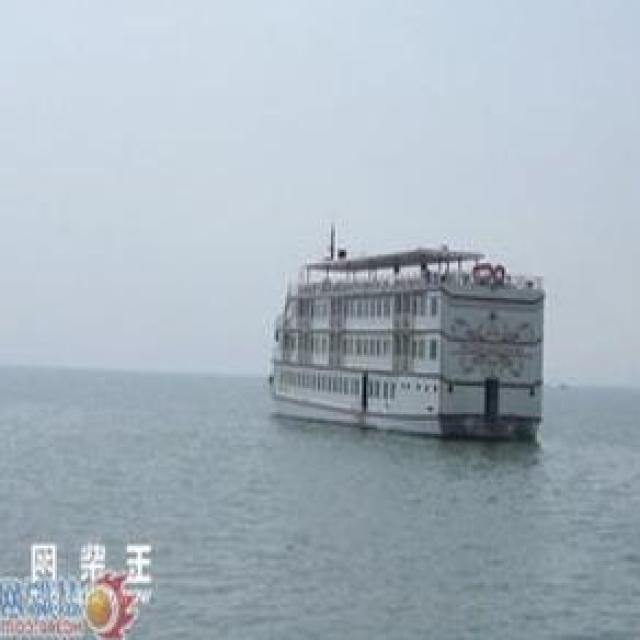passenger ship: (257, 234, 555, 429)
